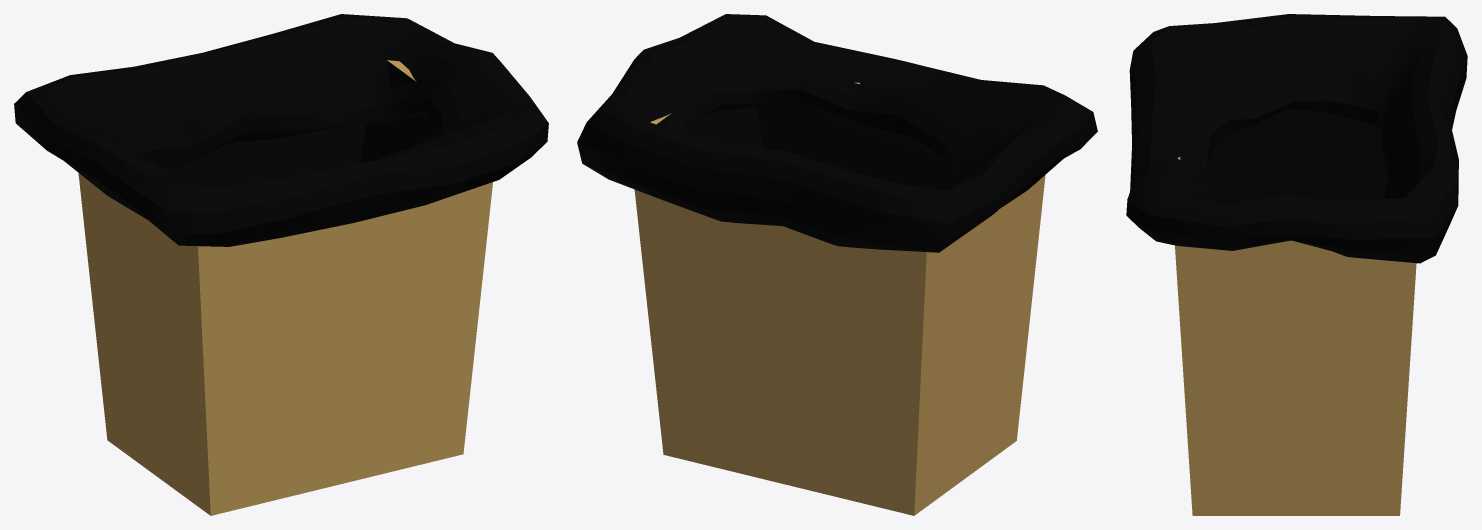
Rendered from Bin.fbx.
3 views of the same model, side by side, from view 1: azimuth 30°, elevation 25°; view 2: azimuth 150°, elevation 25°; view 3: azimuth 270°, elevation 25° (orthographic).
Parts seen in each view (by area): view 1: pTorus3; view 2: pTorus3; view 3: pTorus3.
Boxes of the visible parts, x1=… form: pTorus3: x1=14, y1=14, x2=548, y2=515; pTorus3: x1=577, y1=14, x2=1097, y2=515; pTorus3: x1=1126, y1=14, x2=1467, y2=515.
Bounding box in the file's own units: 0.9872 × 0.8081 × 0.7086.
